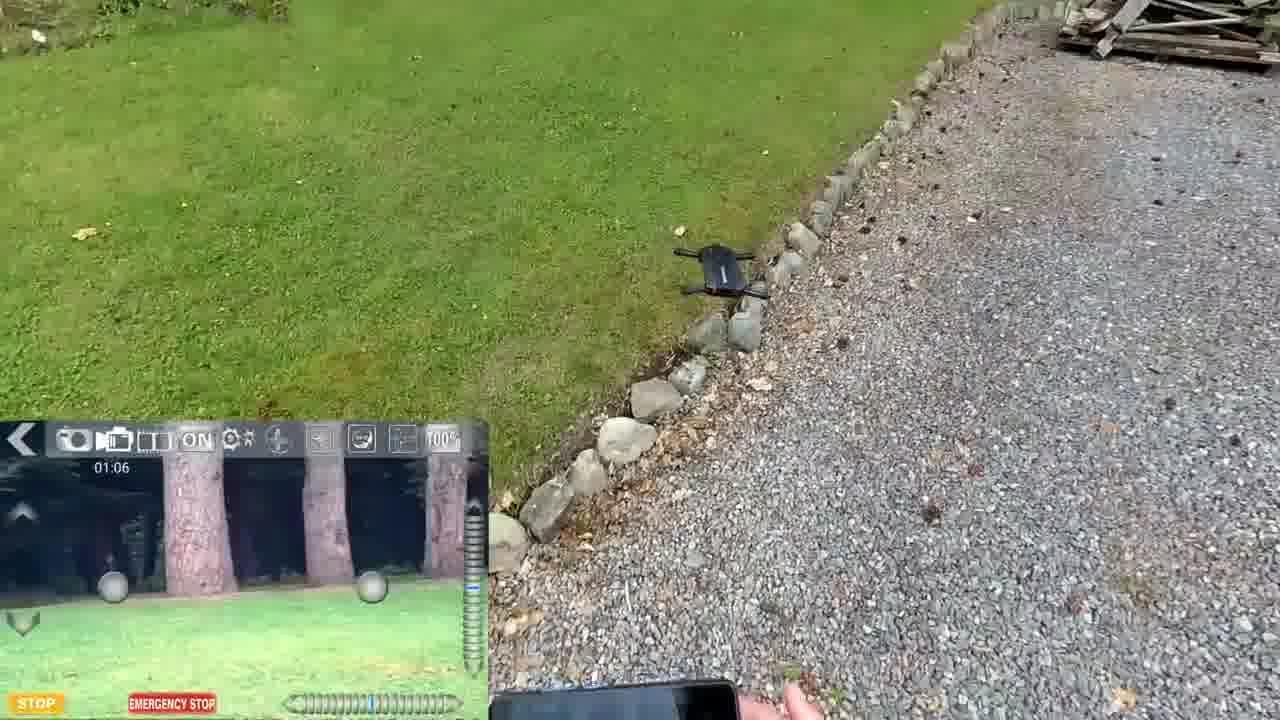drone: (663, 241, 777, 311)
